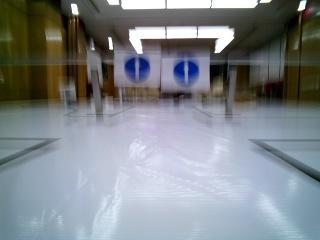straight: (162, 56, 209, 91), (116, 49, 160, 86)
